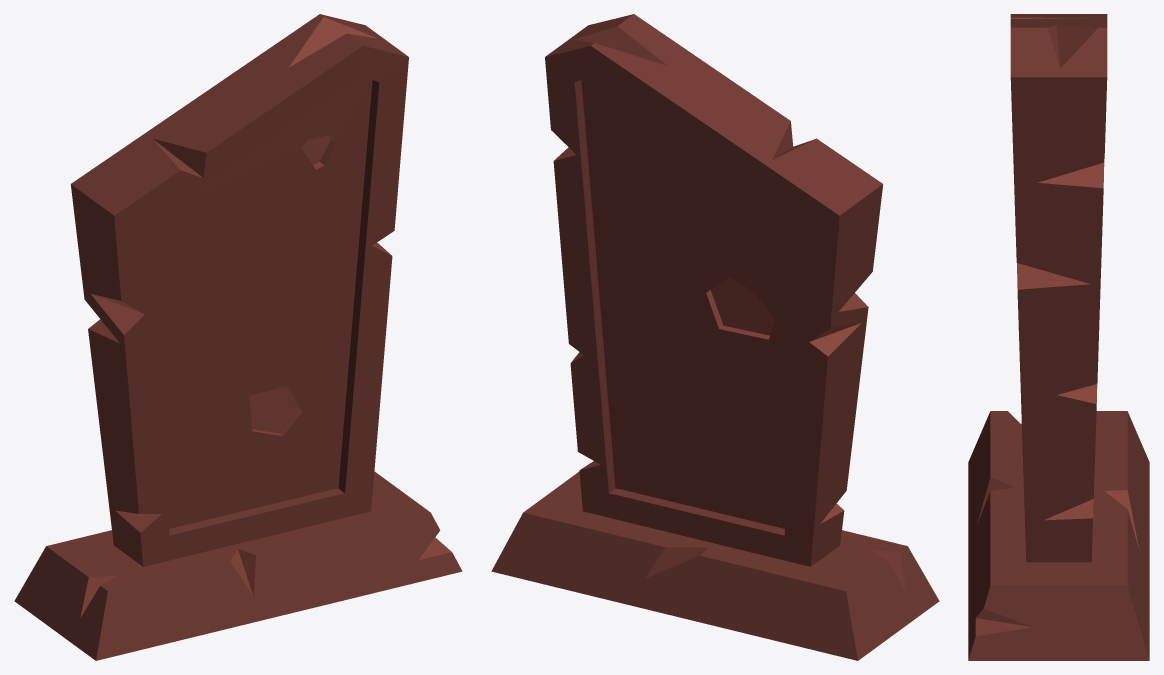
The model's file is Tombstone_3_Red.fbx.
The picture shows the model from 3 angles, left to right: view 1: azimuth 30°, elevation 25°; view 2: azimuth 150°, elevation 25°; view 3: azimuth 270°, elevation 25°; orthographic projection. The views are drawn at different scales.
Visible parts, largest first — view 1: Tombstone_3_Red_Part_1, Tombstone_3_Red_Part_2; view 2: Tombstone_3_Red_Part_1, Tombstone_3_Red_Part_2; view 3: Tombstone_3_Red_Part_1, Tombstone_3_Red_Part_2.
Part boxes in pixels (bbox=[...]): Tombstone_3_Red_Part_1: bbox=[14, 14, 462, 660]; Tombstone_3_Red_Part_2: bbox=[80, 17, 451, 617]; Tombstone_3_Red_Part_1: bbox=[491, 14, 939, 660]; Tombstone_3_Red_Part_2: bbox=[554, 26, 906, 593]; Tombstone_3_Red_Part_1: bbox=[968, 14, 1149, 660]; Tombstone_3_Red_Part_2: bbox=[975, 17, 1139, 636].
Size of the model in its own units: 97.42 by 135 by 37.58.
